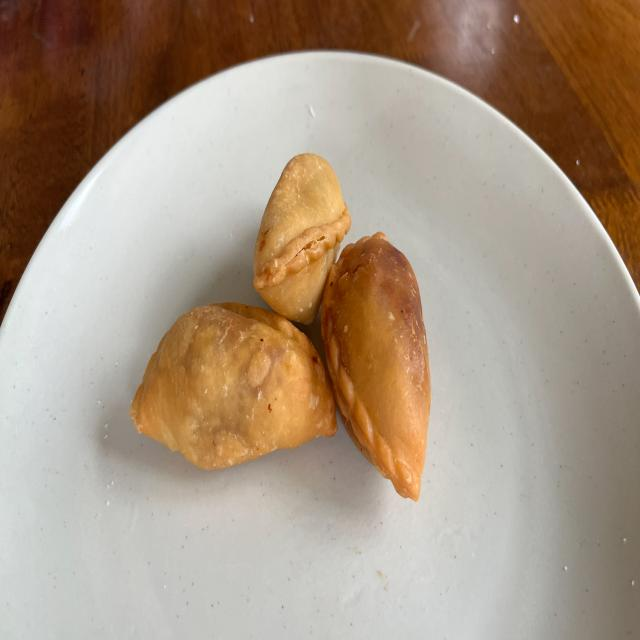karipap: (130, 302, 338, 469), (321, 231, 431, 500), (254, 153, 351, 324)
